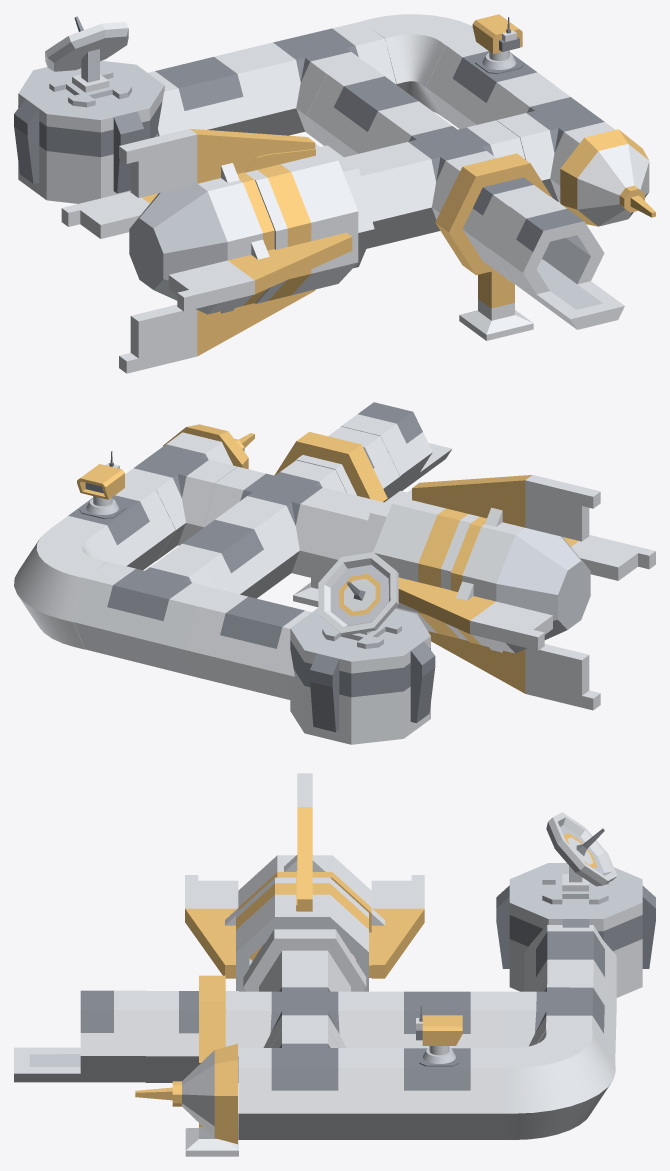
The model's file is space_station.glb.
3 views of the same model, one above another, from view 1: azimuth 30°, elevation 25°; view 2: azimuth 150°, elevation 25°; view 3: azimuth 270°, elevation 25° (orthographic). The views are drawn at different scales.
Parts seen in each view (by area): view 1: pipe_end; view 2: pipe_end; view 3: pipe_end.
Part boxes in pixels (x1,y1,x2,y2): pipe_end: (14,14,655,373); pipe_end: (14,402,655,744); pipe_end: (14,773,655,1156).
Size of the model in its own units: 4.12 by 1.85 by 4.82.
